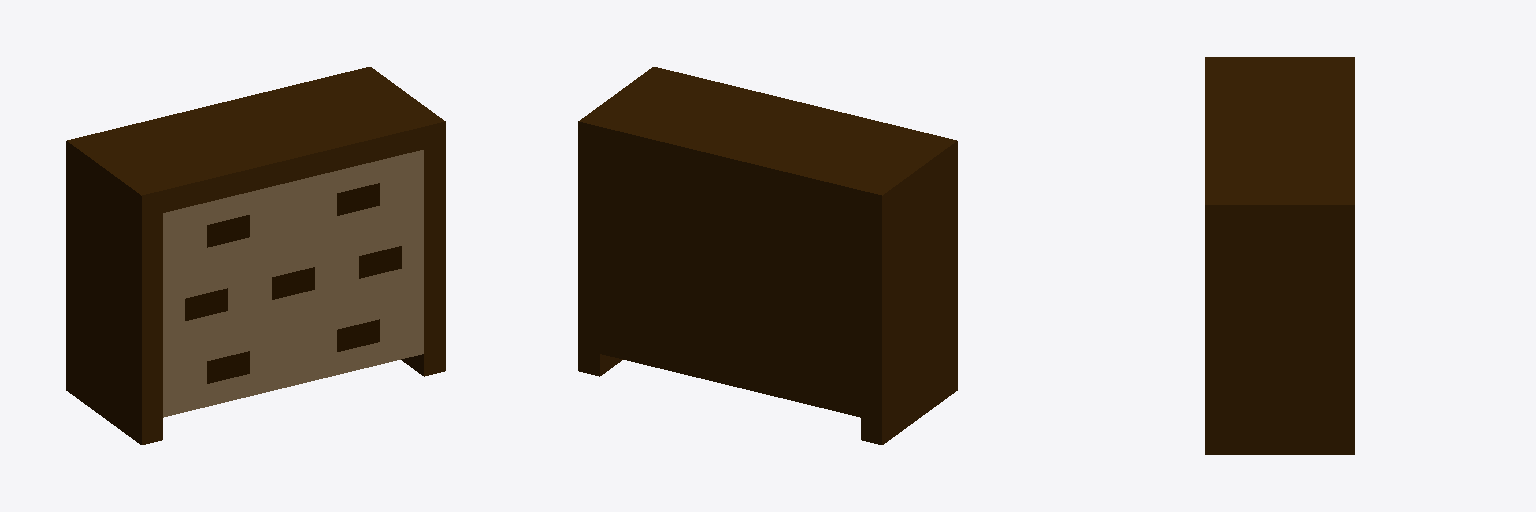
3 renders of one model, left to right at view 1: azimuth 30°, elevation 25°; view 2: azimuth 150°, elevation 25°; view 3: azimuth 270°, elevation 25°, orthographic.
Parts seen in each view (by area): view 1: cupboard1; view 2: cupboard1; view 3: cupboard1.
Part boxes in pixels (x1,y1,x2,y2): cupboard1: (66, 67, 445, 444); cupboard1: (578, 67, 957, 444); cupboard1: (1205, 57, 1354, 454).
Bounding box in the file's own units: 14 × 11 × 6.
Materials: 1 (1 with a texture image).